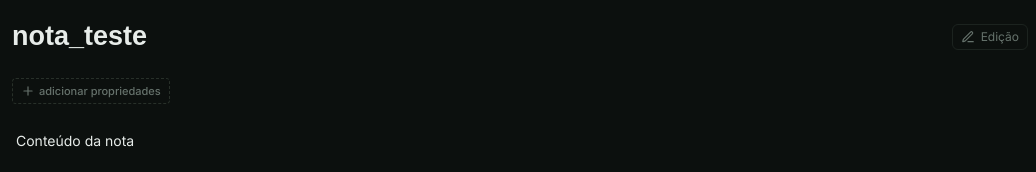
Test case: MarkdownEditor Component › deve exibir erro inline quando o título contiver caracteres inválidos e restaurar o valor anterior
# Altera para nome inválido e desfoca
Replace the text in the field with placeholder "Sem título" with "nota/invalida?" at x=478, y=37, box [12,12,944,62]
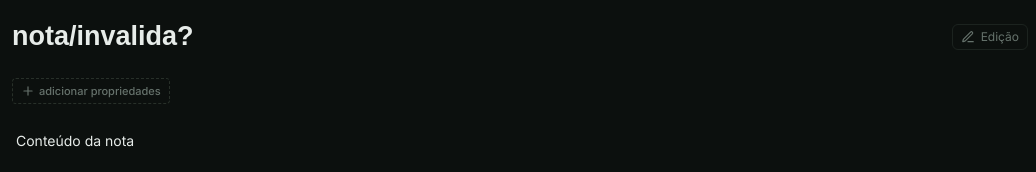
Leave the field with placeholder "Sem título", box [12,12,944,62]
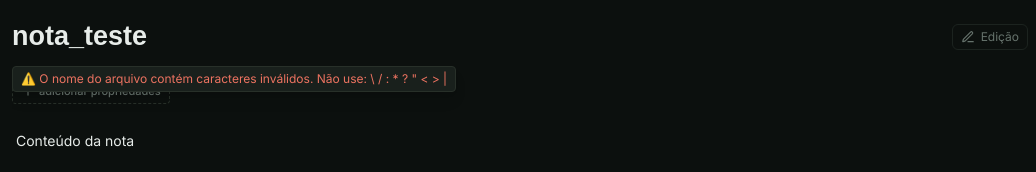
Result: the text "O nome do arquivo contém caracteres inválidos" is shown at [39,70,447,86]
Result: the field with placeholder "Sem título" holds "nota_teste" at [12,12,944,62]
